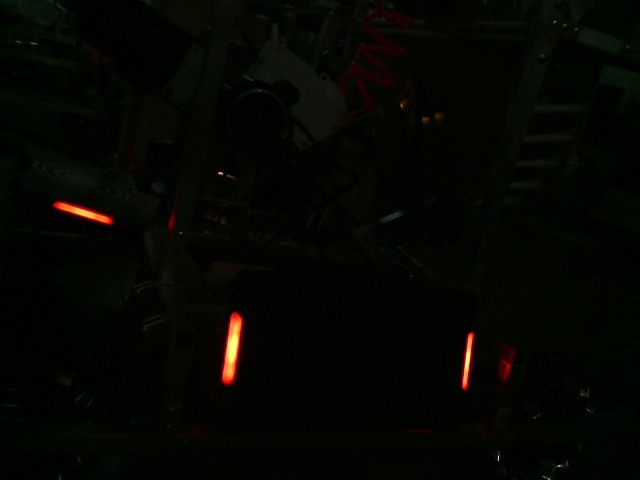lamp: (222, 309, 247, 390), (464, 333, 476, 387)
